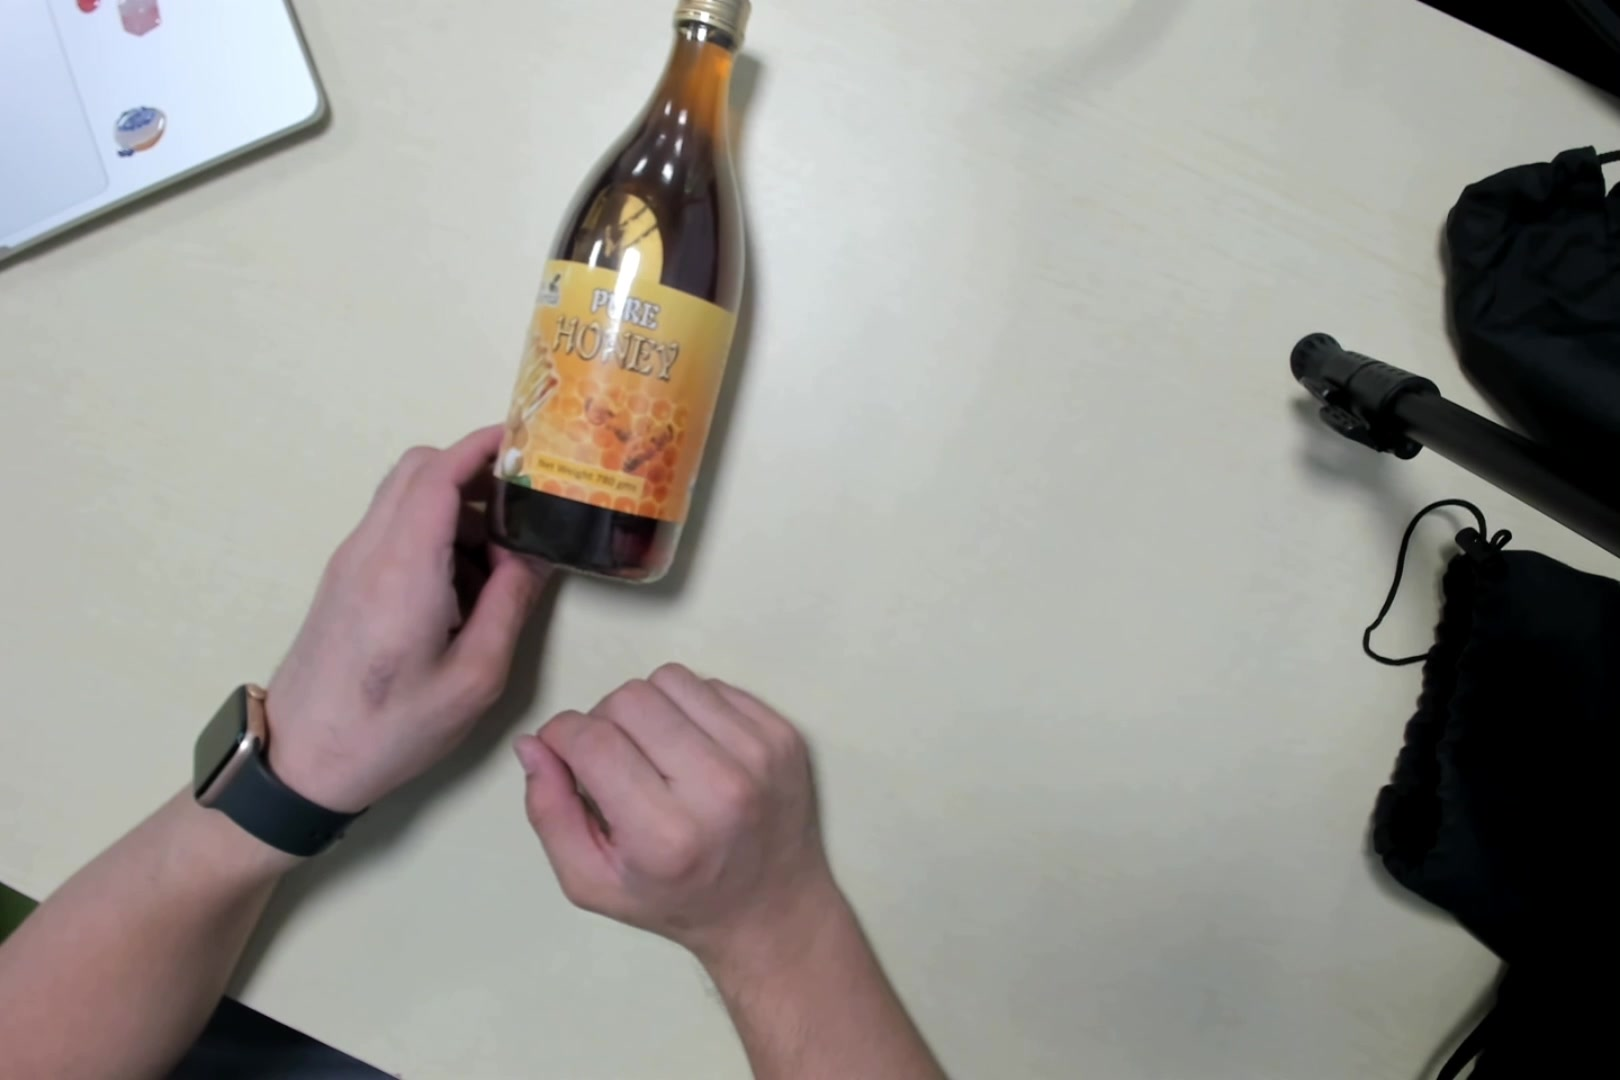OtherBakingNeeds_700-799g_Halal_NonHealthy: (489, 4, 755, 586)
